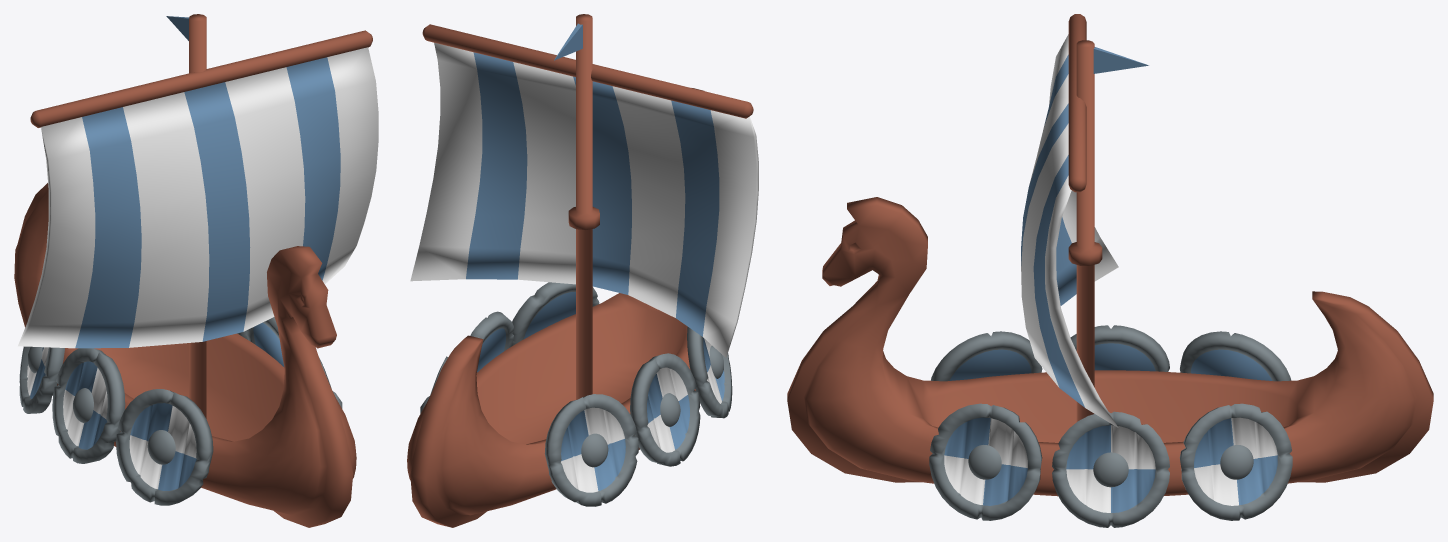
The model's file is longboat_mini.glb.
3 views of the same model, side by side, from view 1: azimuth 30°, elevation 25°; view 2: azimuth 150°, elevation 25°; view 3: azimuth 270°, elevation 25° (orthographic). The views are drawn at different scales.
Parts seen in each view (by area): view 1: longboatSail_mini, longboat_mini; view 2: longboatSail_mini, longboat_mini; view 3: longboat_mini, longboatSail_mini.
Boxes of the visible parts, x1,y1,x2,y2 form: longboatSail_mini: [18, 14, 378, 418]; longboat_mini: [14, 183, 356, 527]; longboatSail_mini: [410, 14, 758, 399]; longboat_mini: [407, 88, 732, 527]; longboat_mini: [787, 197, 1433, 527]; longboatSail_mini: [1021, 14, 1148, 427].
Size of the model in its own units: 1.99 by 2.42 by 3.25.
